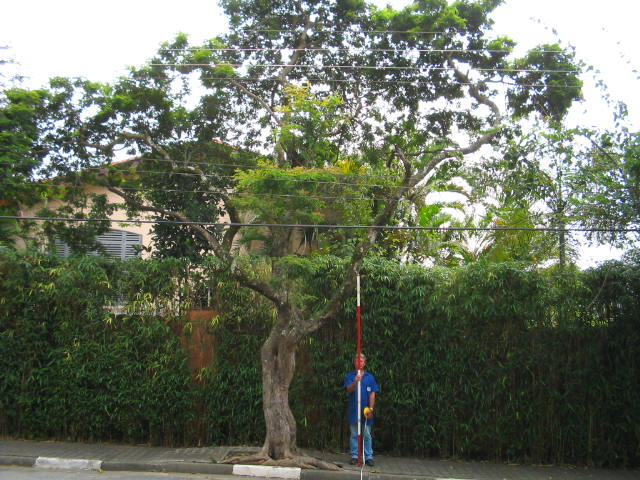crown: (1, 34, 557, 287)
stem: (247, 324, 312, 462)
stick: (351, 275, 366, 468)
tree: (1, 32, 557, 464)
